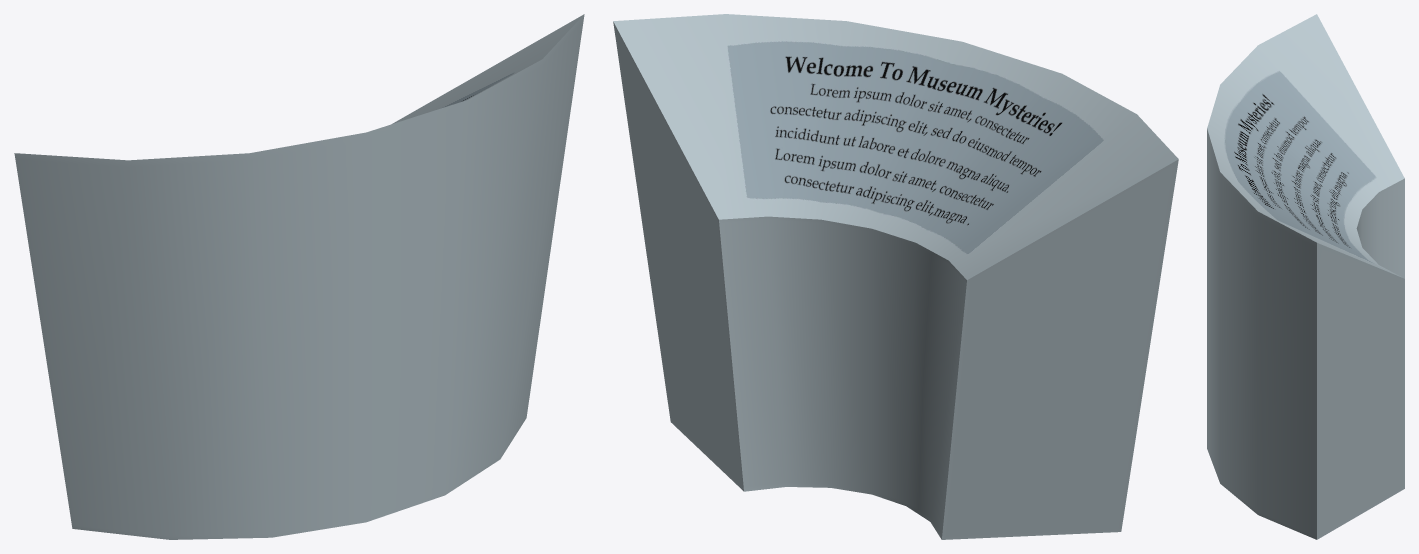
Rendered from podium.obj.
3 renders of one model, left to right at view 1: azimuth 30°, elevation 25°; view 2: azimuth 150°, elevation 25°; view 3: azimuth 270°, elevation 25°, orthographic. The views are drawn at different scales.
Parts seen in each view (by area): view 1: pCylinder1; view 2: pCylinder1; view 3: pCylinder1.
Boxes of the visible parts, box(x1,y1,x2,y2) form: pCylinder1: box(14, 14, 584, 539); pCylinder1: box(613, 14, 1178, 539); pCylinder1: box(1207, 14, 1404, 539).
Bounding box in the file's own units: 2.03 × 1.33 × 0.7421.
